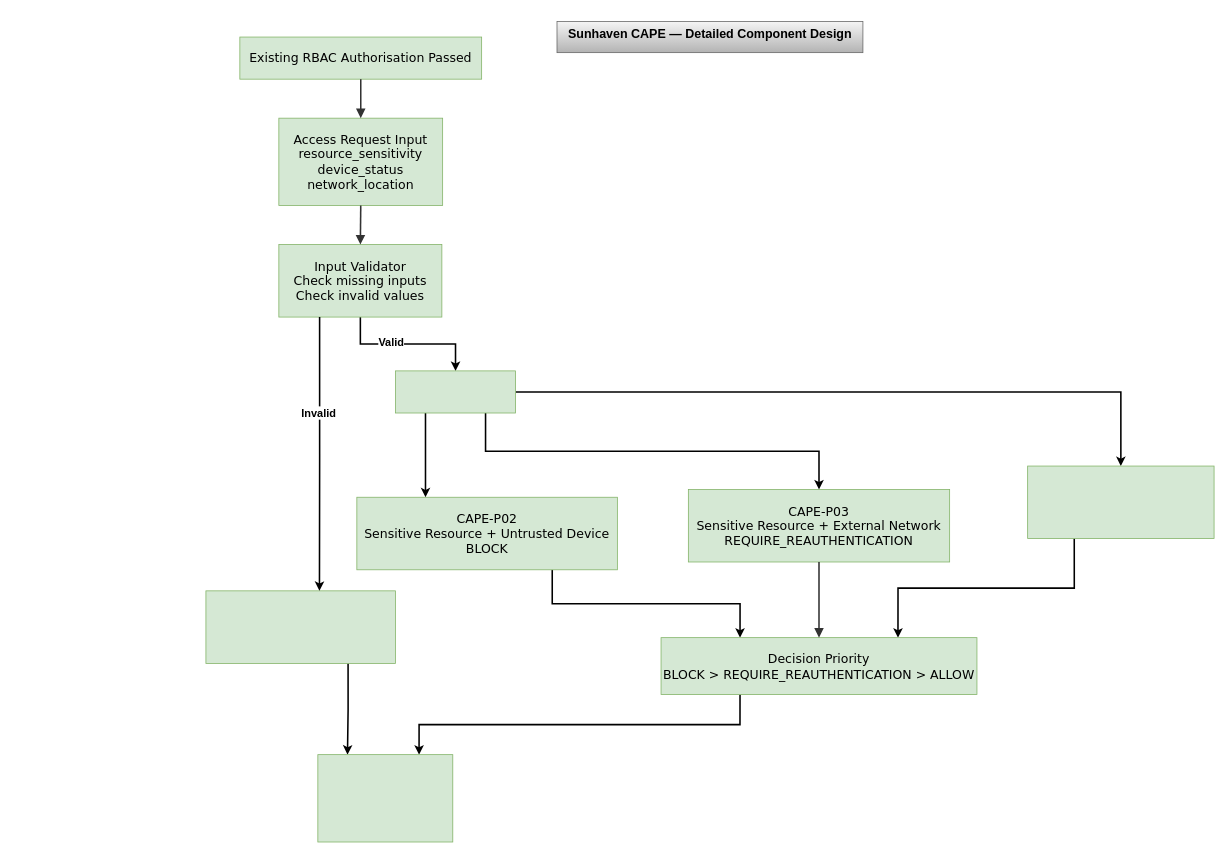
Image size: 1228x856. Some labels were removed from this diagram. The shapes that lost their labels are listed below. From the top down, each one's centre as x and y in pixels, then its label:
(455,391): Policy Engine
(1120,502): CAPE-P04 No Additional Restriction ALLOW
(300,626): CAPE-P01 Missing or Invalid Context BLOCK
(385,798): CAPE Result decision matched_policy reason
